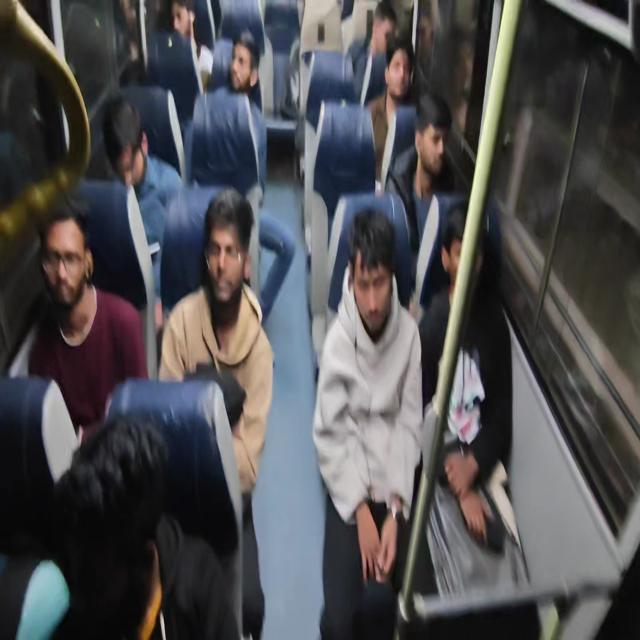person: (157, 187, 275, 638), (312, 206, 424, 638), (418, 206, 528, 600), (14, 412, 169, 639), (27, 198, 148, 444), (385, 91, 469, 305), (190, 28, 268, 200), (102, 95, 184, 251), (366, 33, 419, 193), (348, 0, 397, 106), (170, 0, 213, 95)
